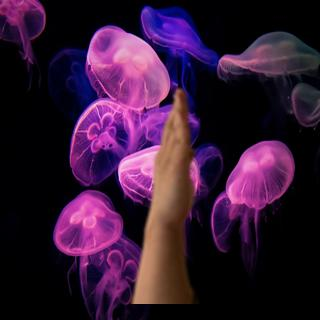RIGHT: (137, 83, 203, 230)
